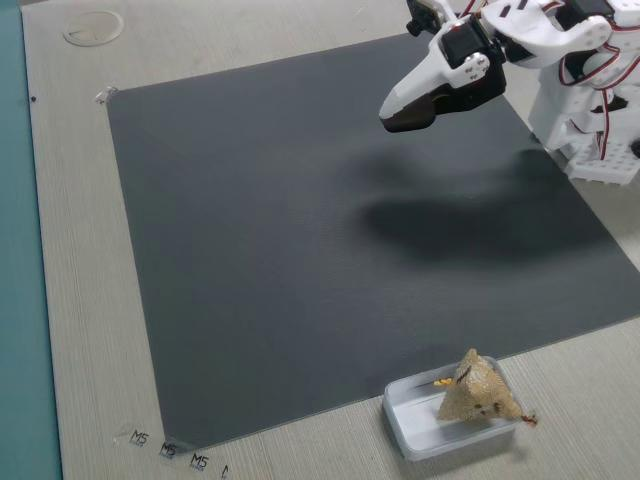objects: (370, 27, 503, 129)
